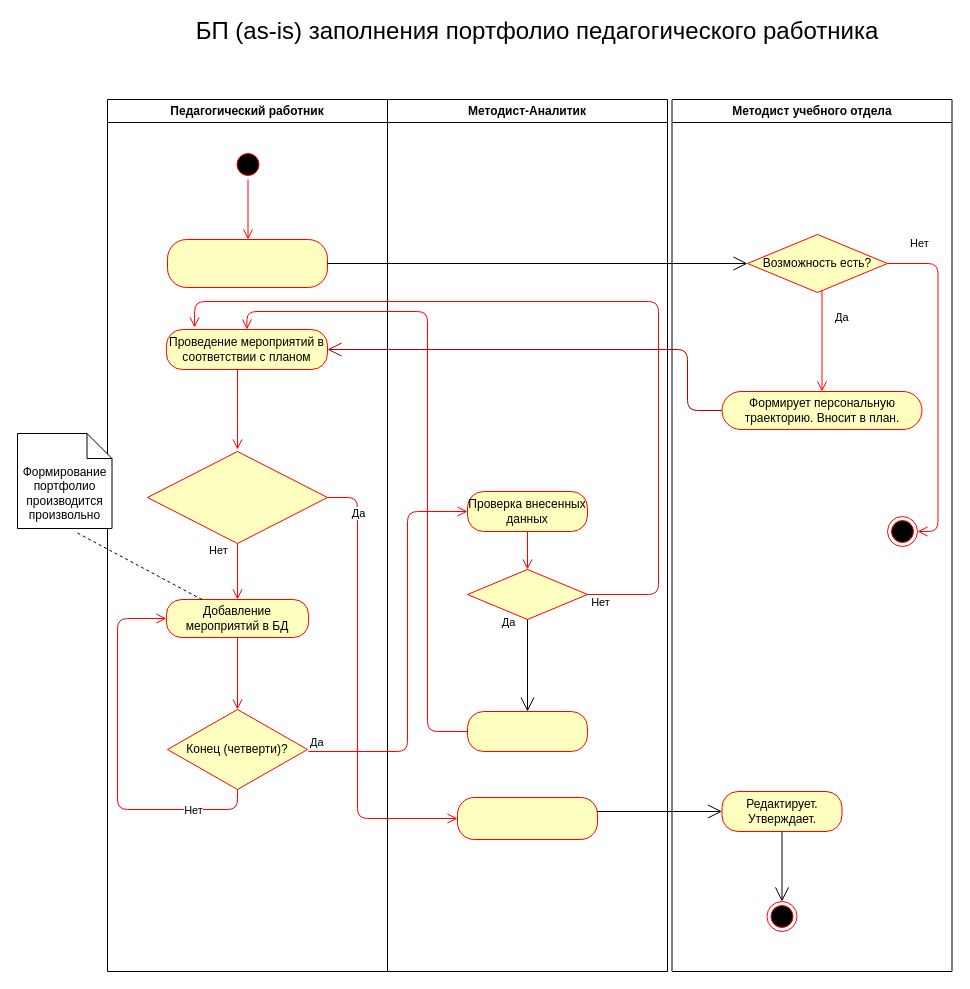
Image size: 970x989. Some labels were removed from this diagram. Each missing label, with the centre of its shape:
"Данные верны?" belongs at pixel 527 594.
"Запрашивает возможность повышения категории" belongs at pixel 247 263.
"Набрано необходимое количество баллов?" belongs at pixel 237 497.
"Начисление баллов." belongs at pixel 527 731.
"Формирует экспертное заключение" belongs at pixel 527 818.
